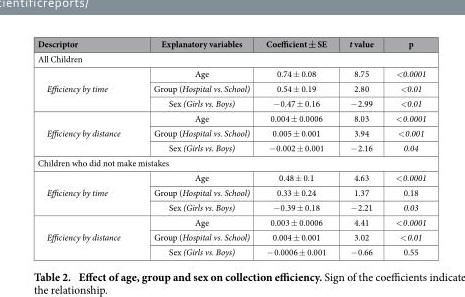table: (36, 37, 425, 257)
table column: (136, 37, 257, 257), (36, 37, 136, 257), (257, 37, 337, 257), (337, 37, 383, 257), (383, 37, 425, 257)
table column header: (36, 37, 425, 50)
table projected row header: (36, 50, 425, 65), (36, 154, 425, 169)
table row: (36, 50, 425, 65), (36, 65, 425, 80), (36, 80, 425, 95), (36, 95, 425, 110), (36, 110, 425, 125), (36, 125, 425, 140), (36, 154, 425, 169), (36, 169, 425, 184), (36, 184, 425, 199), (36, 199, 425, 214), (36, 214, 425, 229), (36, 229, 425, 244), (36, 140, 425, 154), (36, 37, 425, 50), (36, 244, 425, 257)
table spanning cell: (36, 65, 136, 110), (36, 169, 136, 214), (36, 110, 136, 154), (36, 214, 136, 257)
